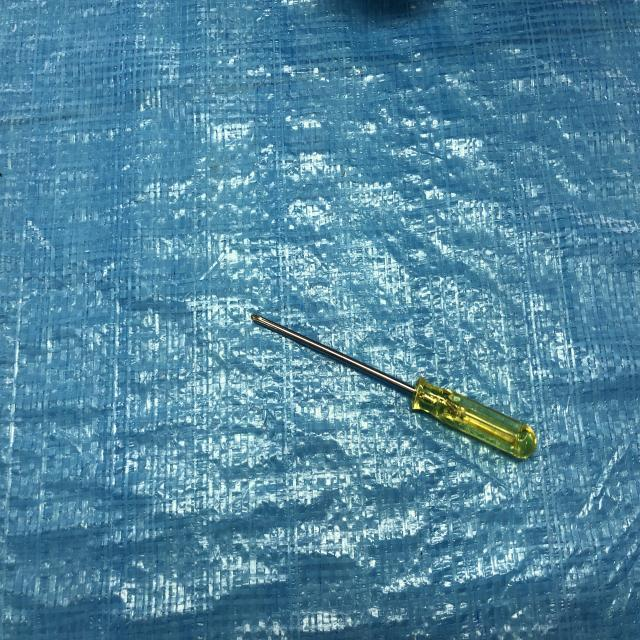screwdriver: (245, 298, 555, 482)
